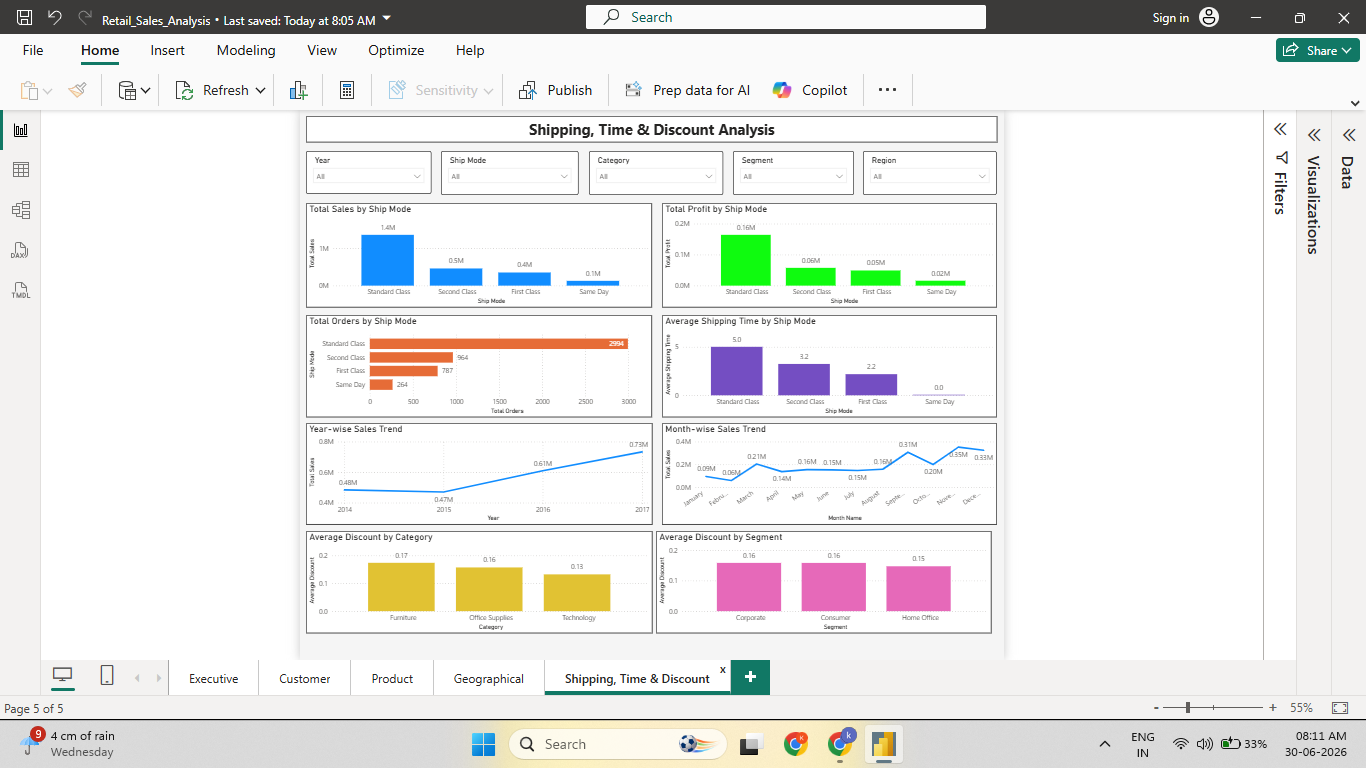

Layout of this report page (visuals, bound fields, positions):
{"tool":"powerbi","page":{"name":"Shipping, Time  & Discount ","canvas":[1280,1000],"ordinal":4},"visuals":[{"type":"textbox","box":[10.2,11.7,1257.1,48.3],"z":0},{"type":"slicer","fields":{"Values":["orders.Order Date.Variation.Date Hierarchy.Year"]},"box":[10.2,74.6,228.3,77.6],"z":1000},{"type":"slicer","fields":{"Values":["orders.Category"]},"box":[525.4,74.6,244.4,80.5],"z":2000},{"type":"slicer","fields":{"Values":["orders.Region"]},"box":[1024.4,74.6,242.9,80.5],"z":3000},{"type":"slicer","fields":{"Values":["orders.Ship Mode"]},"box":[256.1,74.6,250.2,80.5],"z":4000},{"type":"slicer","fields":{"Values":["orders.Segment"]},"box":[787.3,74.6,219.5,80.5],"z":5000},{"type":"clusteredColumnChart","fields":{"Category":["orders.Ship Mode"],"Y":["Measures (2).Total Sales"]},"box":[10.2,169.8,629.3,190.2],"z":6000},{"type":"clusteredColumnChart","fields":{"Category":["orders.Ship Mode"],"Y":["Measures (2).Total Profit"]},"box":[658.5,169.8,608.8,190.2],"z":7000},{"type":"clusteredBarChart","fields":{"Category":["orders.Ship Mode"],"Y":["Measures (2).Total Orders"]},"box":[10.2,373.2,629.3,185.9],"z":8000},{"type":"lineChart","title":"Year-wise Sales Trend","fields":{"Category":["orders.Order Date.Variation.Date Hierarchy.Year"],"Y":["Measures (2).Total Sales"]},"box":[10.2,569.1,630.1,185],"z":9000},{"type":"columnChart","fields":{"Category":["orders.Category"],"Y":["Measures (2).Average Discount"]},"box":[10,765.7,630,185.7],"z":10000},{"type":"columnChart","fields":{"Category":["orders.Segment"],"Y":["Measures (2).Average Discount"]},"box":[647.1,765.7,610,185.7],"z":11000},{"type":"clusteredColumnChart","fields":{"Category":["orders.Ship Mode"],"Y":["orders.Average Shipping Time"]},"box":[659,373,609,186],"z":12000},{"type":"lineChart","title":"Month-wise Sales Trend","fields":{"Category":["orders.Month Name"],"Y":["Measures (2).Total Sales"]},"box":[659,569,609,185],"z":13000}]}

Visuals, with their boxes on the page's 1280x1000 design canvas (x1, y1, x2, y2). These are canvas units, not pixel positions in the 1366x768 screenshot, which may show the page scaled, cropped or inside an application window:
textbox: bbox(10, 12, 1267, 60)
slicer - orders.Order Date.Variation.Date Hierarchy.Year: bbox(10, 75, 238, 152)
slicer - orders.Category: bbox(525, 75, 770, 155)
slicer - orders.Region: bbox(1024, 75, 1267, 155)
slicer - orders.Ship Mode: bbox(256, 75, 506, 155)
slicer - orders.Segment: bbox(787, 75, 1007, 155)
clusteredColumnChart - orders.Ship Mode x Measures (2).Total Sales: bbox(10, 170, 640, 360)
clusteredColumnChart - orders.Ship Mode x Measures (2).Total Profit: bbox(658, 170, 1267, 360)
clusteredBarChart - orders.Ship Mode x Measures (2).Total Orders: bbox(10, 373, 640, 559)
"Year-wise Sales Trend" lineChart: bbox(10, 569, 640, 754)
columnChart - orders.Category x Measures (2).Average Discount: bbox(10, 766, 640, 951)
columnChart - orders.Segment x Measures (2).Average Discount: bbox(647, 766, 1257, 951)
clusteredColumnChart - orders.Ship Mode x orders.Average Shipping Time: bbox(659, 373, 1268, 559)
"Month-wise Sales Trend" lineChart: bbox(659, 569, 1268, 754)
